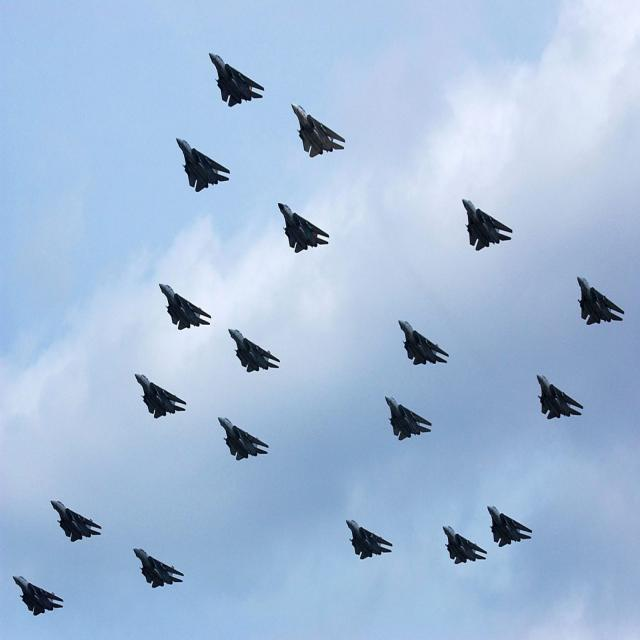MIL_Plane: (208, 68, 264, 124), (290, 102, 346, 158), (175, 137, 230, 193), (461, 197, 513, 251), (277, 202, 330, 254), (158, 282, 212, 331), (575, 275, 625, 326), (134, 372, 186, 420), (397, 318, 449, 365), (217, 415, 269, 461), (227, 328, 281, 372), (535, 373, 584, 420), (50, 499, 102, 543), (384, 394, 432, 441), (11, 574, 64, 616), (132, 547, 185, 589), (344, 518, 394, 560), (486, 504, 532, 547), (442, 524, 487, 564)
